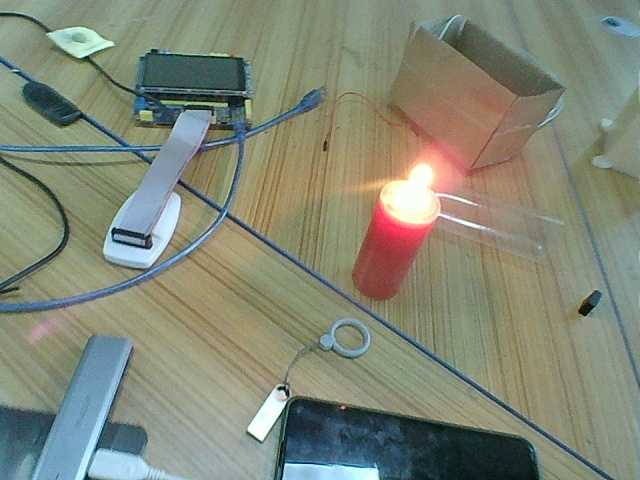candle: (354, 202, 431, 313)
fire: (386, 161, 442, 213)
